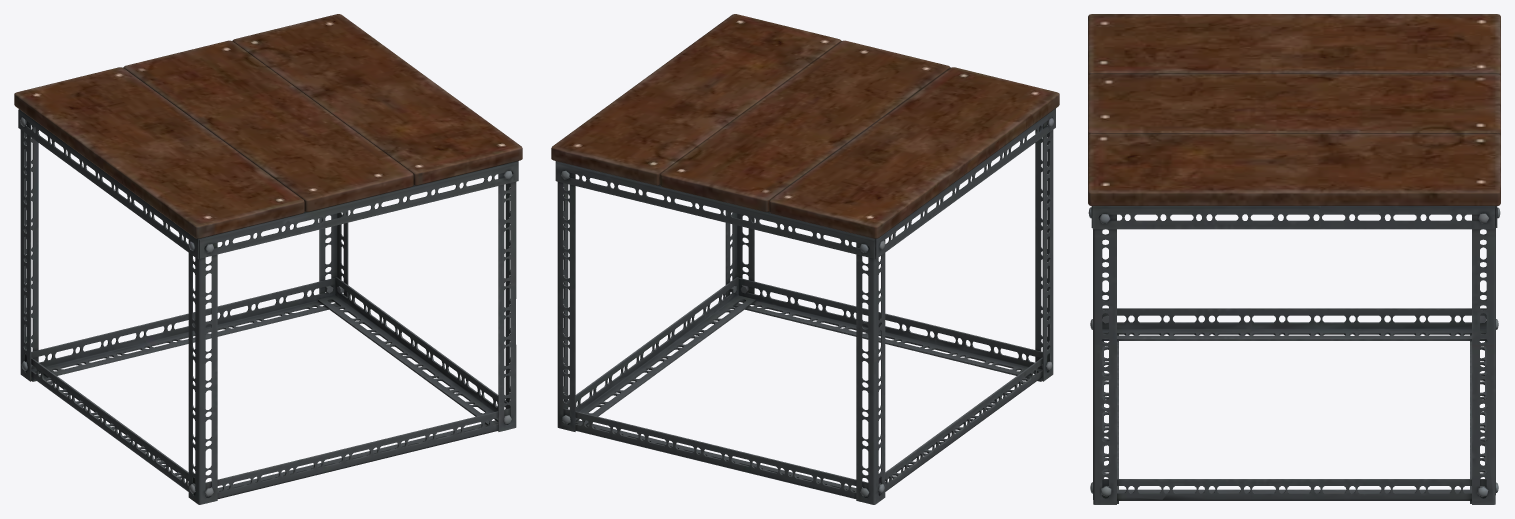
Rendered from industrial_coffee_table.glb.
3 views of the same model, side by side, from view 1: azimuth 30°, elevation 25°; view 2: azimuth 150°, elevation 25°; view 3: azimuth 270°, elevation 25° (orthographic). The views are drawn at different scales.
Parts seen in each view (by area): view 1: industrial_coffee_table; view 2: industrial_coffee_table; view 3: industrial_coffee_table.
Part boxes in pixels (x1,y1,x2,y2): industrial_coffee_table: [14, 14, 522, 504]; industrial_coffee_table: [551, 14, 1059, 504]; industrial_coffee_table: [1088, 14, 1500, 504].
Bounding box in the file's own units: 0.7783 × 0.6384 × 0.7579.
1 material, 1 textured.
